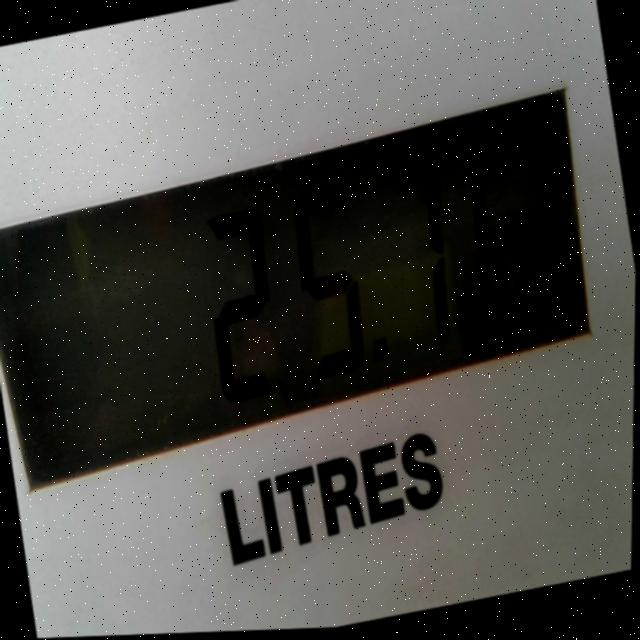.: (362, 318, 404, 383)
2: (191, 192, 302, 423)
5: (274, 177, 378, 391)
6: (450, 134, 562, 354)
7: (368, 145, 480, 382)
